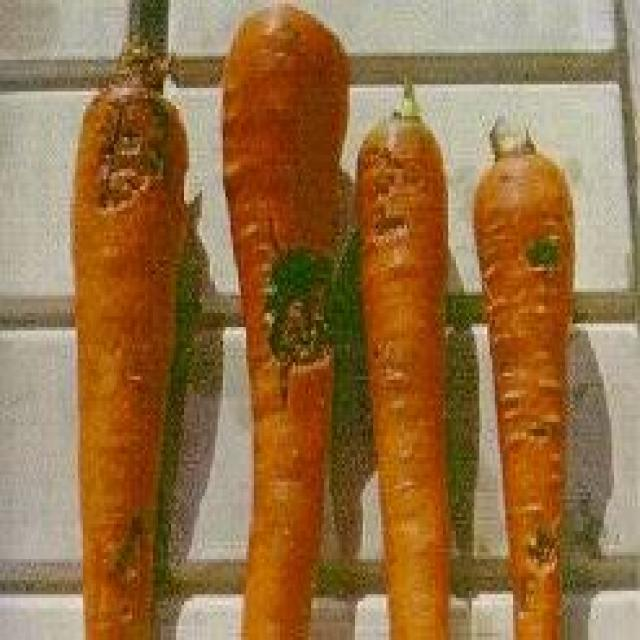Stale_Carrot: (70, 39, 204, 640), (320, 93, 477, 470), (474, 91, 581, 608), (236, 0, 359, 407)
